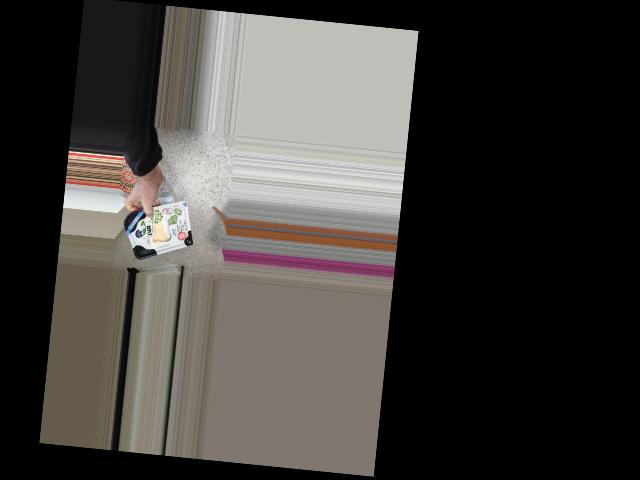cheese: (124, 201, 195, 255)
